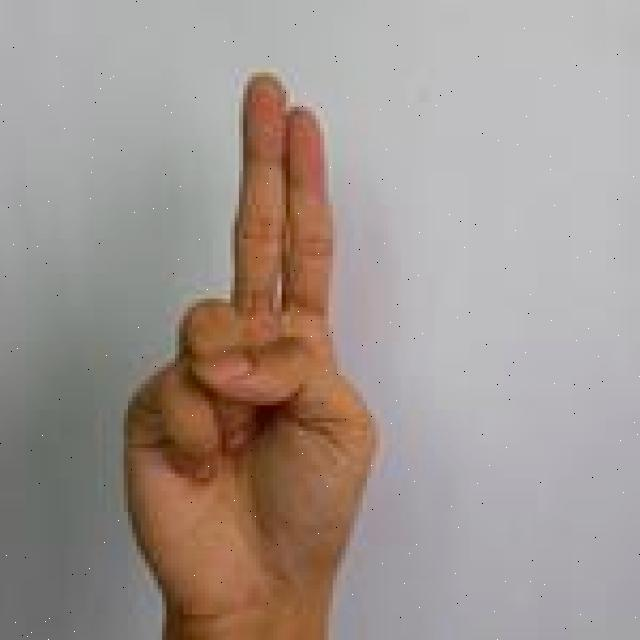U: (119, 68, 382, 640)
